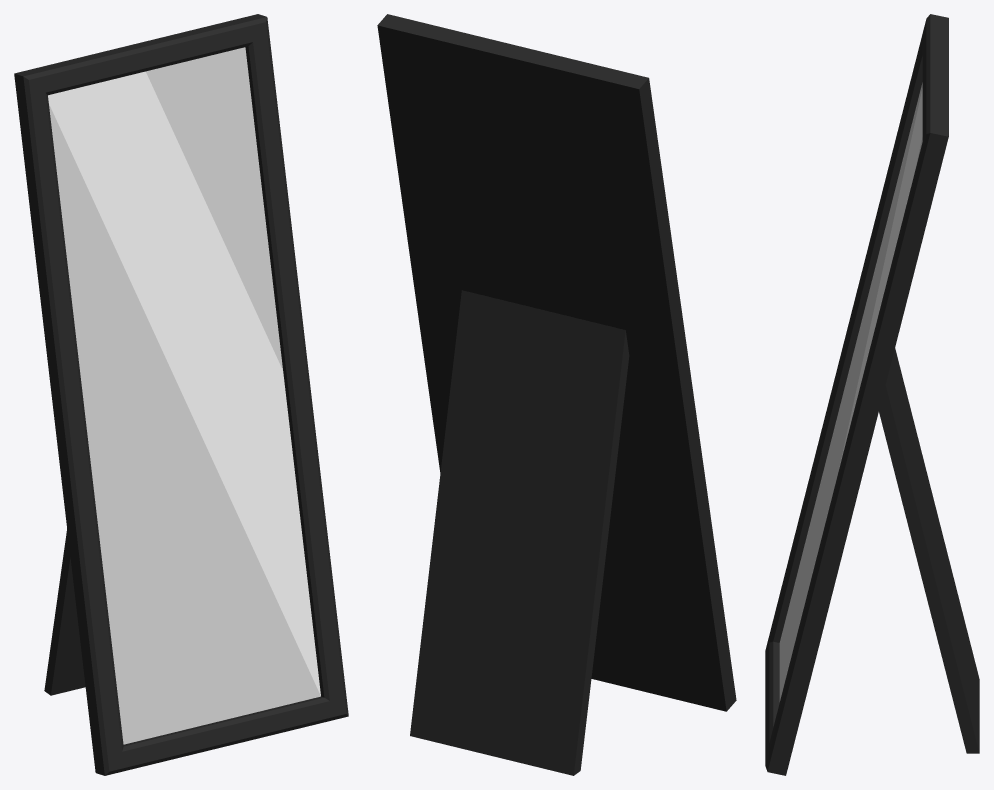
Rendered from Mirror-transformed.glb.
The picture shows the model from 3 angles, left to right: view 1: azimuth 30°, elevation 25°; view 2: azimuth 150°, elevation 25°; view 3: azimuth 270°, elevation 25°; orthographic projection. The views are drawn at different scales.
Visible parts, largest first — view 1: Mirror; view 2: Mirror; view 3: Mirror.
Boxes of the visible parts, left/top/right/bottom form: Mirror: left=14, top=14, right=348, bottom=775; Mirror: left=377, top=14, right=736, bottom=775; Mirror: left=765, top=14, right=979, bottom=775.
Size of the model in its own units: 25.03 by 63.09 by 19.05.
1 material, 1 textured.
